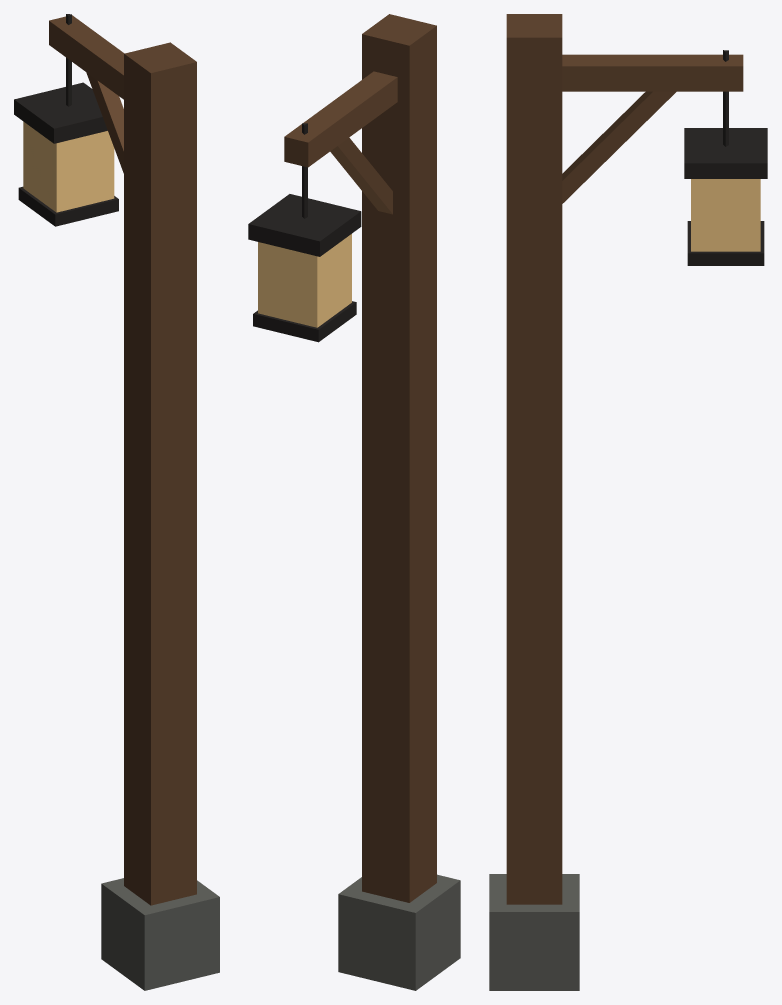
File: lamp_post.glb
3 views of the same model, side by side, from view 1: azimuth 30°, elevation 25°; view 2: azimuth 150°, elevation 25°; view 3: azimuth 270°, elevation 25° (orthographic). The views are drawn at different scales.
Visible parts, largest first — view 1: lamp_post; view 2: lamp_post; view 3: lamp_post.
Boxes of the visible parts, bbox=[...] form: lamp_post: bbox=[14, 14, 219, 990]; lamp_post: bbox=[248, 14, 460, 990]; lamp_post: bbox=[489, 14, 767, 990].
Size of the model in its own units: 0.26 by 3 by 0.8.
